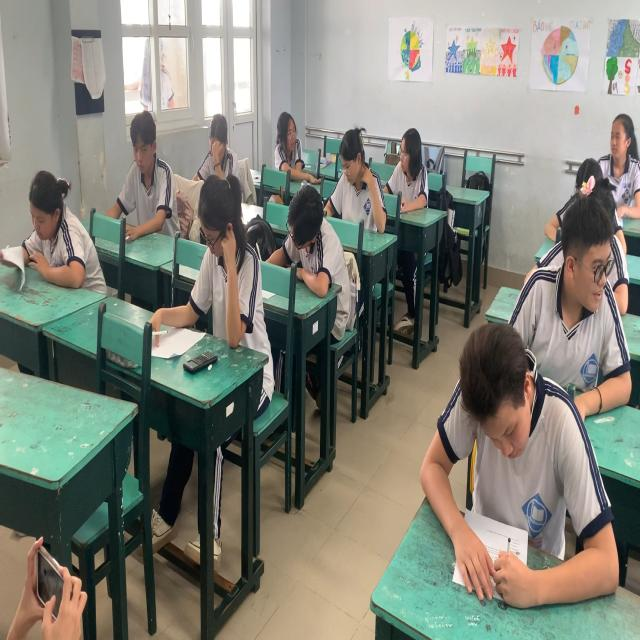cheating: (520, 194, 640, 356), (104, 106, 186, 264), (373, 124, 435, 233), (257, 87, 312, 187)
not_cheating: (416, 286, 622, 590), (192, 151, 276, 398), (1, 101, 86, 283), (551, 128, 637, 292), (274, 164, 358, 330), (563, 97, 640, 241), (324, 108, 390, 264), (188, 90, 237, 186)
